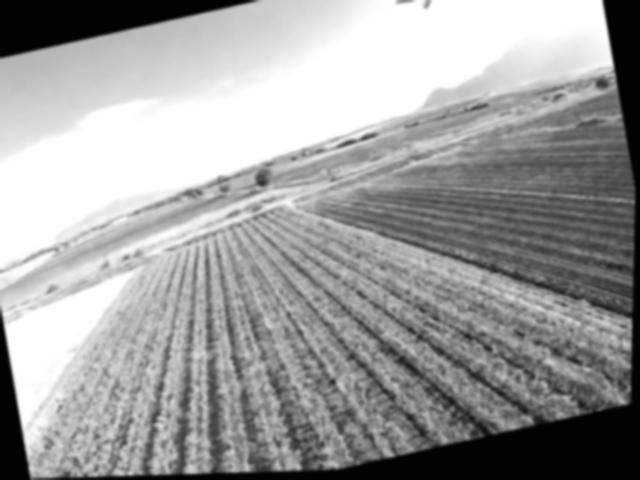hedef: (382, 0, 465, 26)
